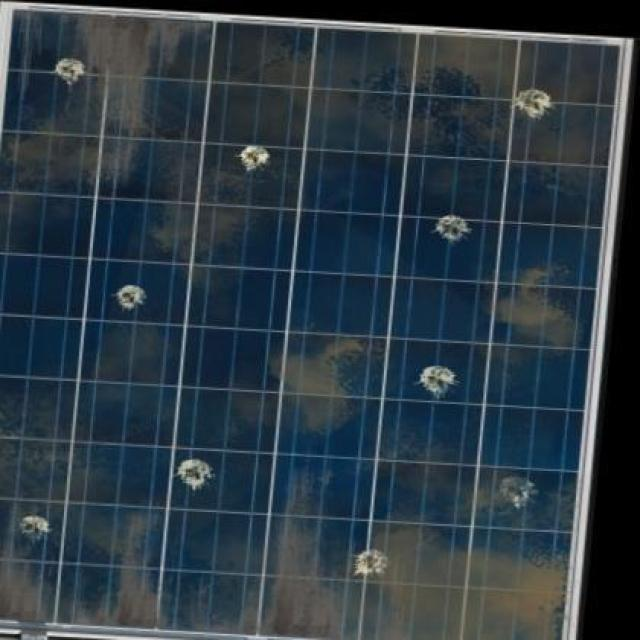soiled: (1, 3, 632, 640)
